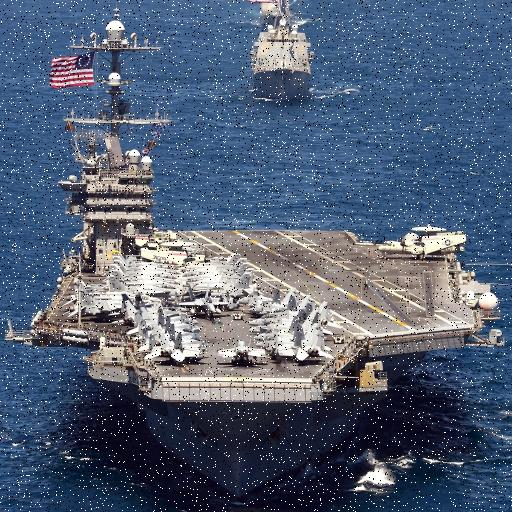Portanaves: (6, 11, 508, 511)
